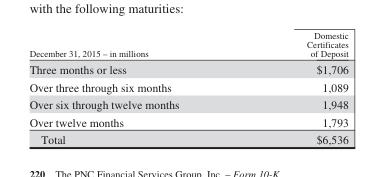table: (28, 29, 347, 145)
table column: (28, 29, 242, 145), (242, 29, 347, 145)
table column header: (28, 29, 347, 60)
table row: (28, 29, 347, 60), (28, 77, 347, 95), (28, 112, 347, 130), (28, 60, 347, 77), (28, 95, 347, 112), (28, 130, 347, 145)
